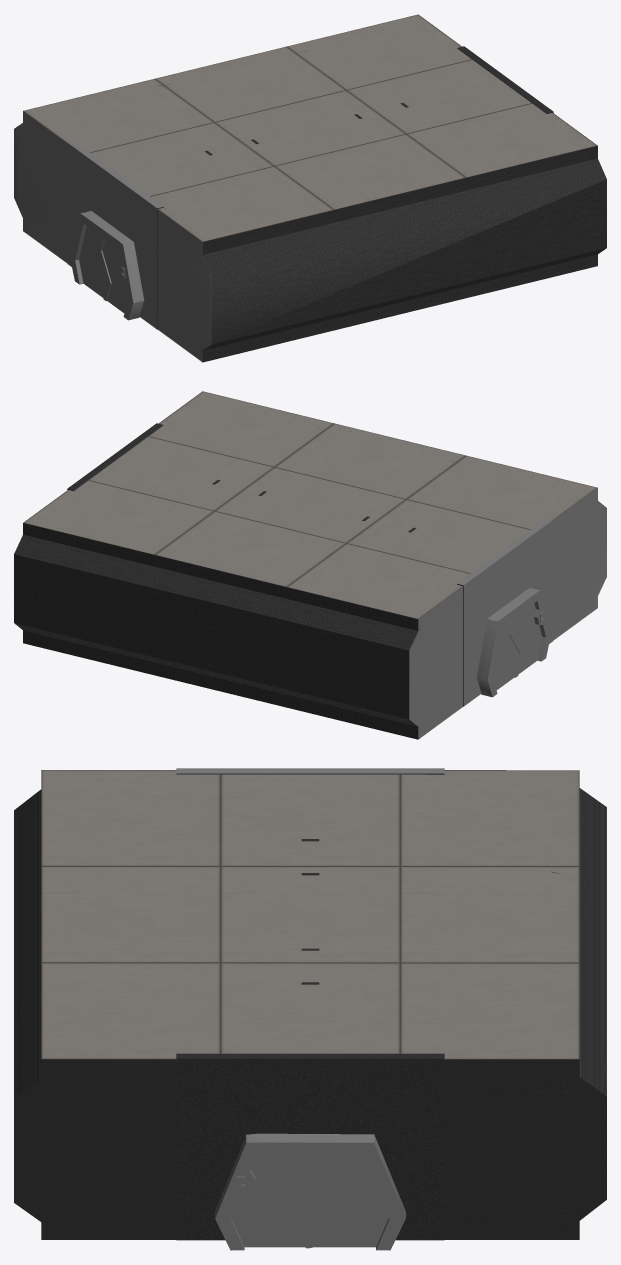
Rendered from sala_espera.obj.
The picture shows the model from 3 angles, top to bottom: view 1: azimuth 30°, elevation 25°; view 2: azimuth 150°, elevation 25°; view 3: azimuth 270°, elevation 25°; orthographic projection. The views are drawn at different scales.
Parts seen in each view (by area): view 1: sala_espera:polySurface401, sala_espera:polySurface434, sala_espera:polySurface381, sala_espera:polySurface291, sala_espera:polySurface216, sala_espera:polySurface218; view 2: sala_espera:polySurface401, sala_espera:polySurface434, sala_espera:polySurface381, sala_espera:polySurface291, sala_espera:polySurface218, sala_espera:polySurface216; view 3: sala_espera:polySurface401, sala_espera:polySurface434, sala_espera:polySurface291, sala_espera:polySurface381.
Boxes of the visible parts, x1,y1,x2,y2 form: sala_espera:polySurface401: (23, 14, 597, 241); sala_espera:polySurface434: (159, 46, 606, 362); sala_espera:polySurface381: (14, 111, 211, 362); sala_espera:polySurface291: (26, 211, 200, 360); sala_espera:polySurface216: (79, 226, 109, 299); sala_espera:polySurface218: (99, 238, 127, 313); sala_espera:polySurface401: (23, 391, 597, 619); sala_espera:polySurface434: (14, 423, 418, 739); sala_espera:polySurface381: (409, 488, 606, 739); sala_espera:polySurface291: (419, 588, 595, 738); sala_espera:polySurface218: (511, 603, 541, 676); sala_espera:polySurface216: (493, 617, 521, 689); sala_espera:polySurface401: (41, 770, 579, 1059); sala_espera:polySurface434: (14, 788, 606, 1240); sala_espera:polySurface291: (214, 1133, 406, 1250); sala_espera:polySurface381: (176, 768, 444, 774).
Bounding box in the file's own units: 73.85 × 20.57 × 60.15.
